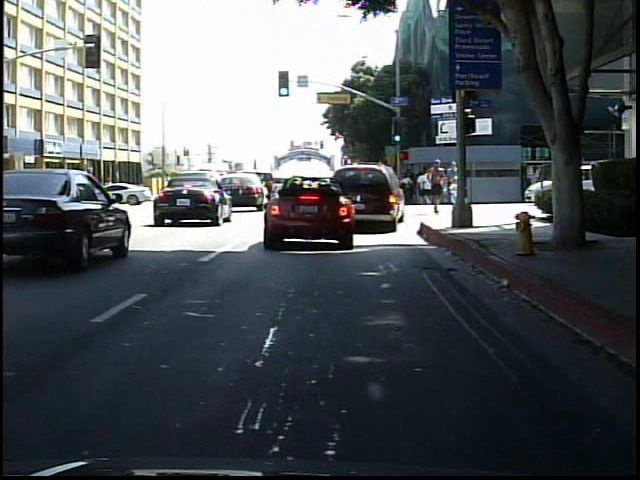person: (426, 158, 447, 217), (103, 176, 121, 204), (446, 173, 458, 207)
